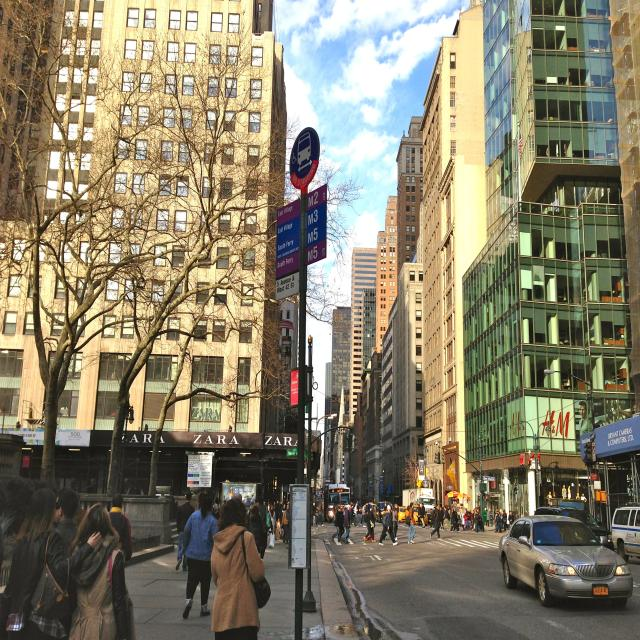body: (2, 487, 102, 640), (67, 502, 134, 640), (209, 494, 272, 640), (179, 490, 221, 620), (0, 481, 88, 533), (578, 399, 640, 438), (53, 487, 80, 562), (107, 493, 133, 562), (175, 491, 195, 571), (254, 497, 274, 562), (231, 492, 255, 539), (546, 484, 587, 506), (378, 504, 398, 546), (250, 505, 263, 554), (511, 482, 528, 517), (429, 503, 443, 540), (405, 502, 416, 544), (331, 506, 343, 543), (363, 510, 376, 543), (342, 504, 352, 544), (276, 502, 287, 535), (268, 504, 277, 535), (440, 506, 451, 530), (472, 510, 482, 533), (392, 503, 398, 541), (339, 506, 345, 542), (449, 508, 458, 532), (349, 504, 358, 527), (278, 504, 287, 526), (317, 502, 325, 526), (382, 506, 388, 538), (453, 507, 460, 531), (420, 502, 426, 528), (388, 507, 393, 538), (360, 503, 367, 525), (461, 510, 468, 531), (462, 510, 469, 531), (212, 502, 220, 520), (502, 510, 509, 530), (354, 503, 360, 525), (272, 501, 277, 527), (207, 498, 215, 514), (495, 512, 501, 533), (508, 511, 515, 529), (172, 500, 179, 518), (417, 503, 422, 527), (275, 499, 280, 522), (365, 500, 372, 516), (439, 507, 444, 529), (478, 514, 484, 532), (332, 503, 336, 526), (432, 506, 436, 529), (494, 510, 498, 532), (371, 505, 376, 522), (488, 508, 493, 525), (248, 502, 254, 516), (430, 508, 434, 528), (471, 509, 475, 529), (311, 501, 314, 526), (313, 502, 316, 526), (486, 509, 490, 527), (356, 503, 361, 515), (502, 509, 508, 519), (493, 508, 498, 520), (215, 496, 220, 506), (280, 500, 290, 505), (262, 500, 268, 508), (266, 498, 271, 507), (448, 508, 453, 515), (499, 508, 502, 519), (470, 510, 472, 526), (222, 500, 227, 506), (336, 503, 340, 510), (267, 504, 270, 512), (463, 507, 469, 511), (384, 503, 387, 510), (466, 508, 469, 515), (474, 508, 479, 512), (499, 512, 501, 519), (451, 507, 454, 511), (533, 510, 536, 514), (448, 506, 450, 509), (414, 503, 417, 505), (318, 488, 320, 490), (385, 500, 386, 502)
